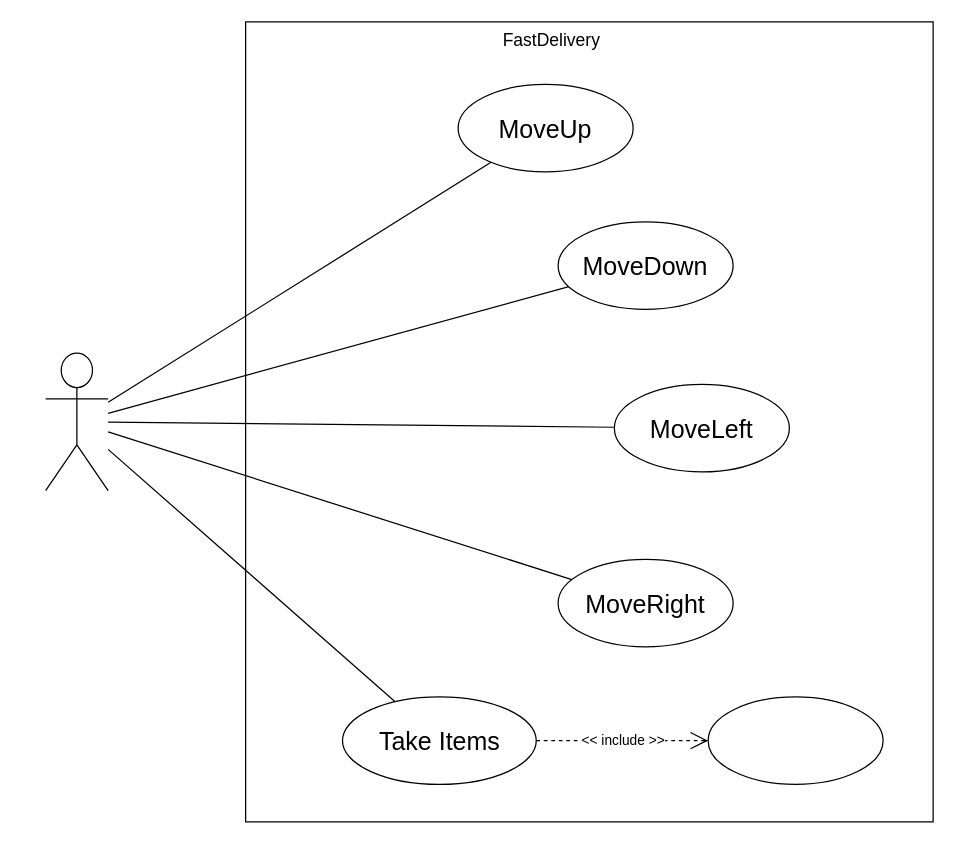
The diagram is 955 pixels wide and 844 high, and some of its shapes have lost their labels. The centre of each missing label's shape, as x and y in pixels:
"Character" goes at (x=76, y=421).
"Put Items" goes at (x=795, y=740).
